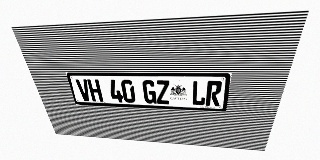0: (120, 80, 136, 103)
4: (108, 79, 124, 102)
G: (142, 80, 157, 104)
H: (87, 79, 103, 102)
L: (191, 81, 207, 106)
R: (205, 81, 223, 106)
V: (75, 79, 92, 101)
Z: (156, 80, 170, 104)
